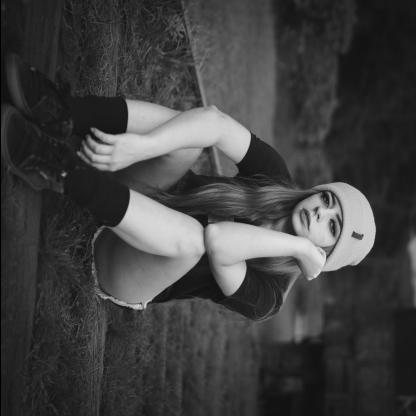Eye: (329, 216, 337, 237), (322, 189, 330, 208)
Mouth: (299, 205, 311, 233)
Nose: (313, 206, 332, 223)
